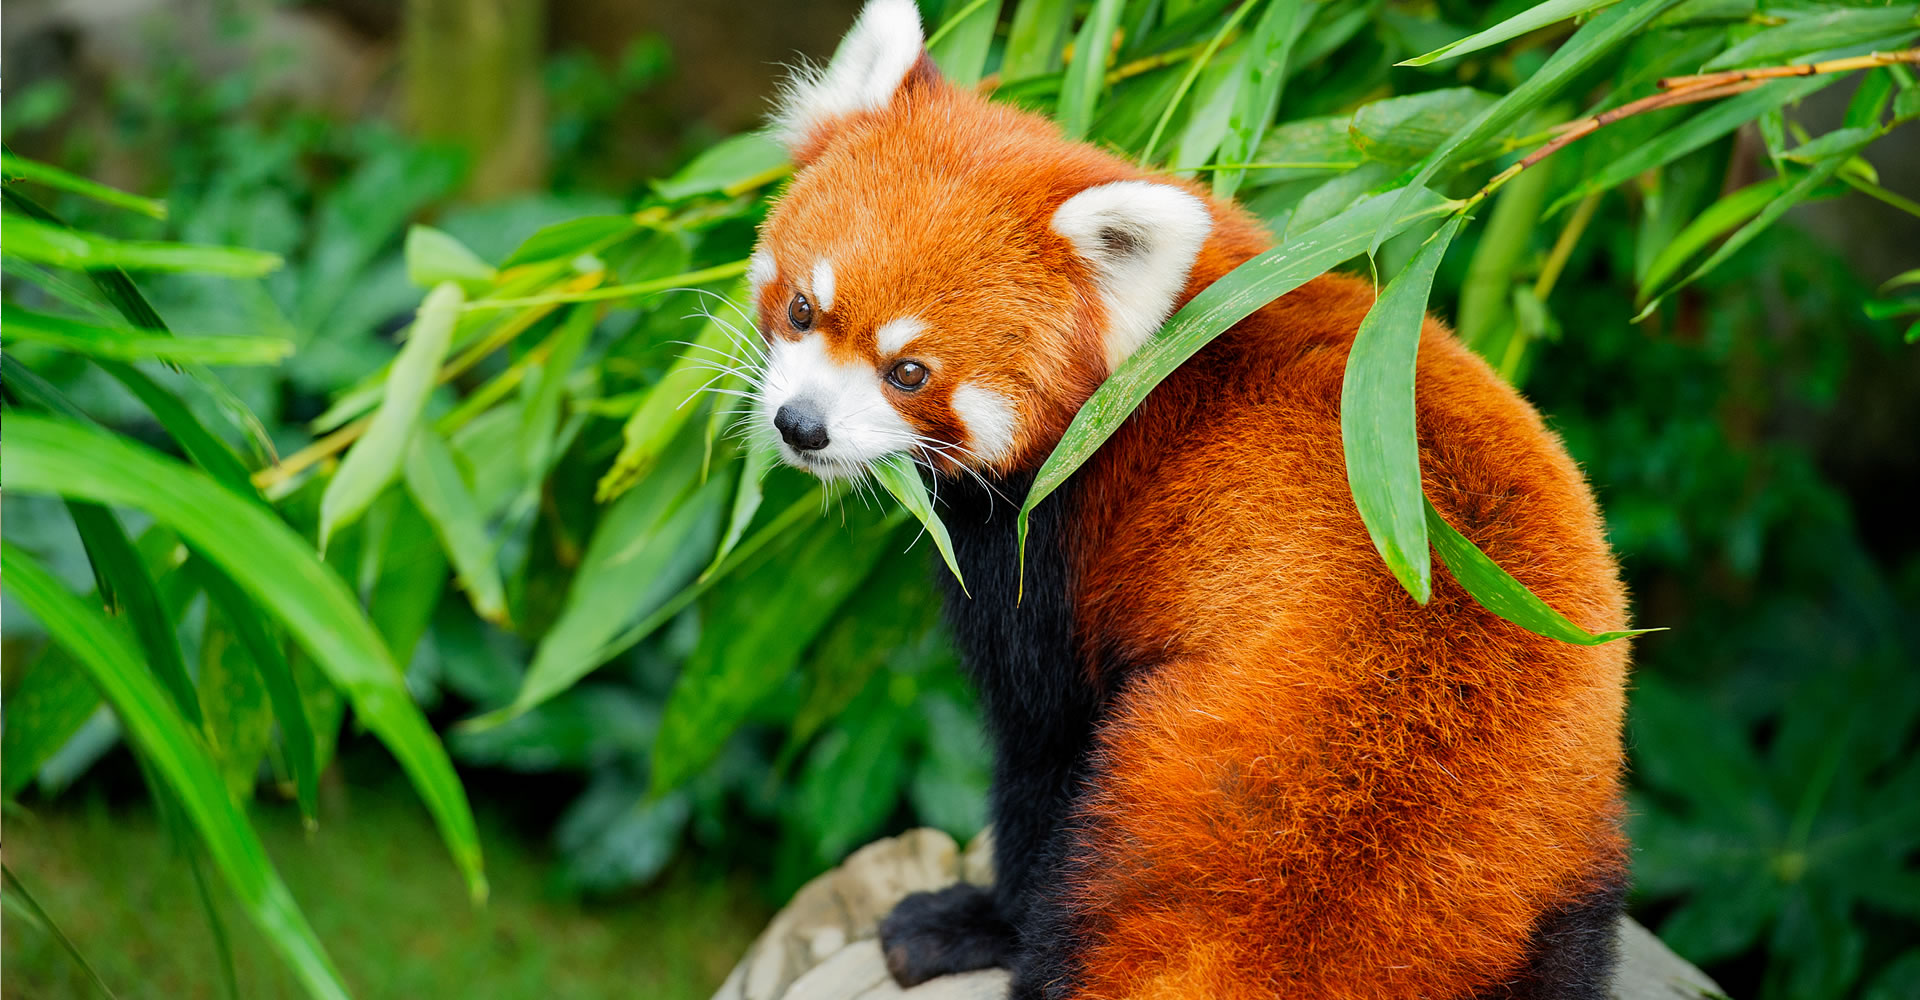Red panda: (731, 1, 1211, 487)
